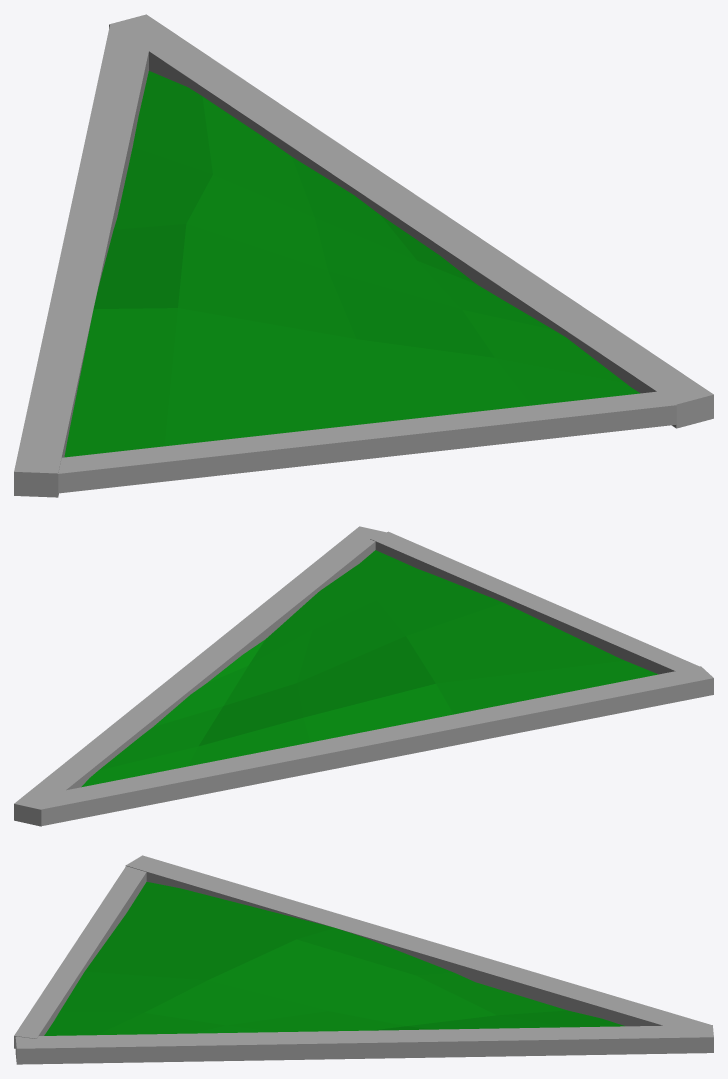
Rendered from gras_1 2.fbx.
The picture shows the model from 3 angles, top to bottom: view 1: azimuth 30°, elevation 25°; view 2: azimuth 150°, elevation 25°; view 3: azimuth 270°, elevation 25°; orthographic projection. The views are drawn at different scales.
Parts seen in each view (by area): view 1: gras_1, Cube, Cube.002, Cube.001; view 2: gras_1, Cube.001, Cube, Cube.002; view 3: gras_1, Cube, Cube.001, Cube.002.
Part boxes in pixels (x1,y1,x2,y2): gras_1: (64,71,640,457); Cube: (109,14,713,428); Cube.002: (58,390,676,493); Cube.001: (14,24,153,497); gras_1: (81,550,658,787); Cube.001: (28,666,713,825); Cube: (14,526,385,826); Cube.002: (370,531,699,674); gras_1: (44,882,624,1035); Cube: (15,1025,713,1064); Cube.001: (125,855,712,1035); Cube.002: (14,866,146,1048).
Size of the model in its own units: 6.9 by 0.3635 by 10.55.
